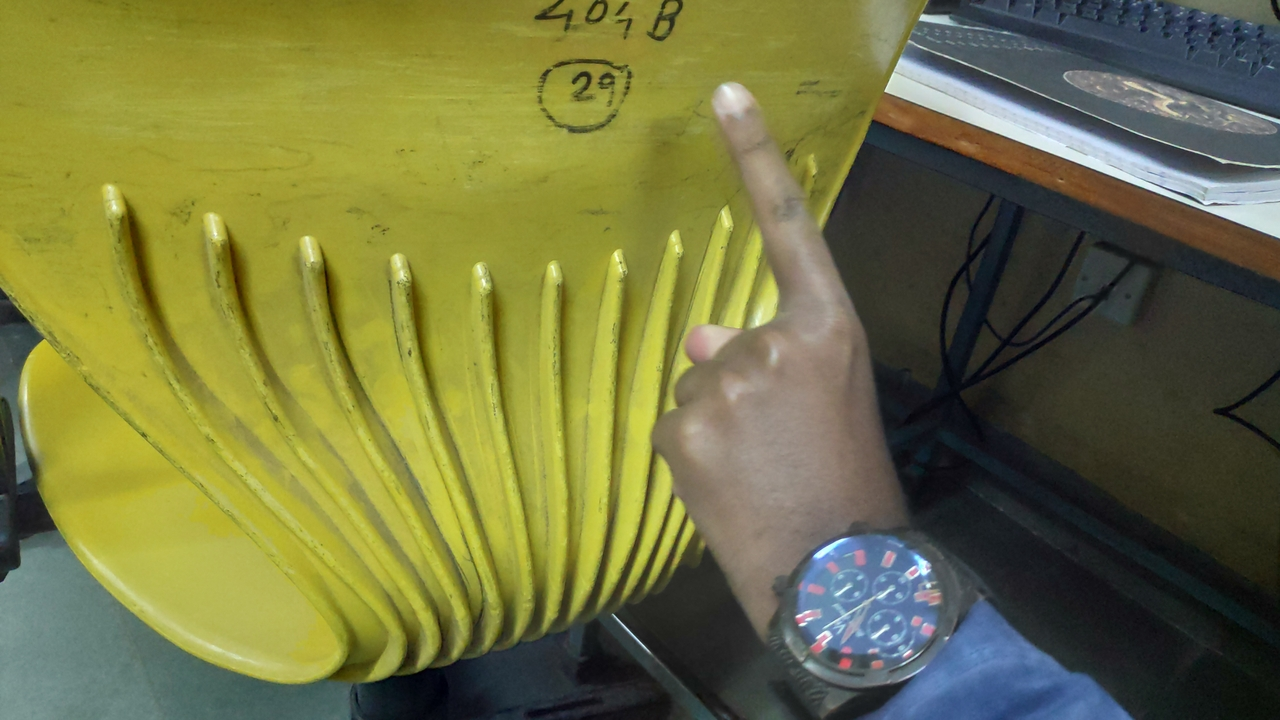fingertip: (706, 78, 766, 132)
